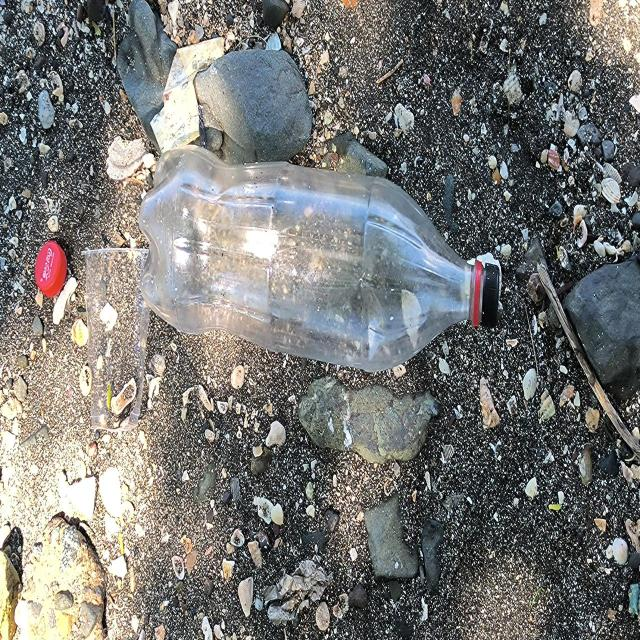plastic_waste: (139, 144, 501, 375), (36, 241, 69, 299)
